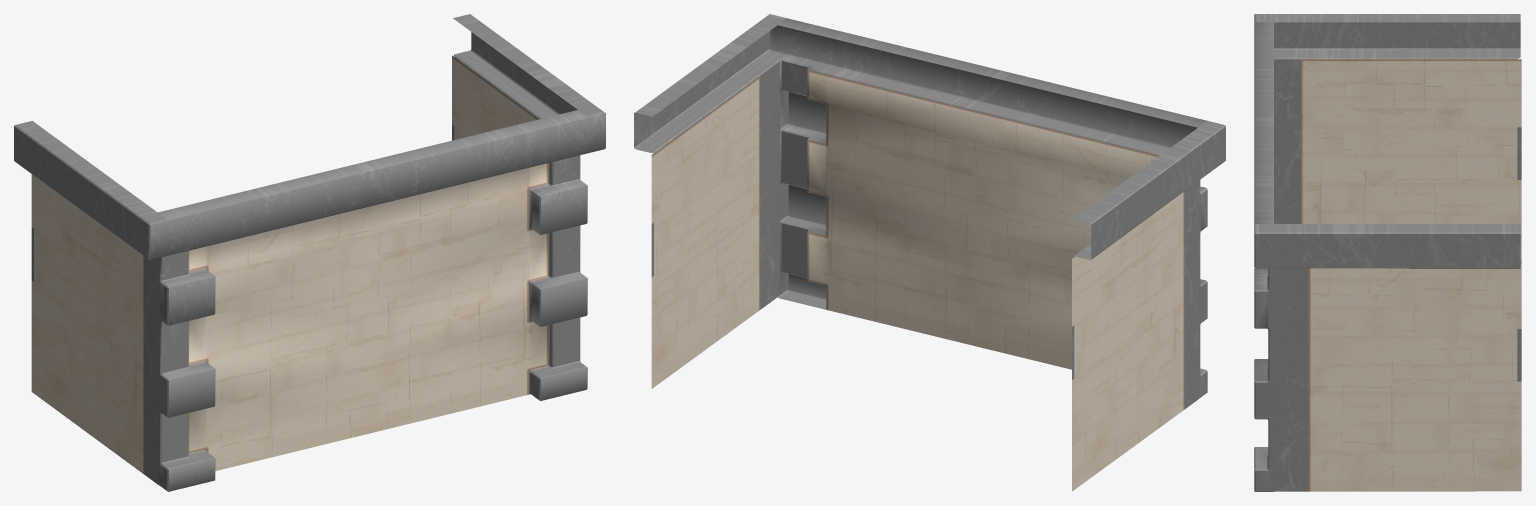
The model's file is wall_1.FBX.
The picture shows the model from 3 angles, left to right: view 1: azimuth 30°, elevation 25°; view 2: azimuth 150°, elevation 25°; view 3: azimuth 270°, elevation 25°; orthographic projection.
Visible parts, largest first — view 1: Plane001; view 2: Plane001; view 3: Plane001.
Part boxes in pixels (x1=…): Plane001: x1=14, y1=14, x2=605, y2=491; Plane001: x1=634, y1=14, x2=1225, y2=491; Plane001: x1=1254, y1=14, x2=1521, y2=491.
Size of the model in its own units: 51.81 by 29.54 by 26.7.
1 material, 1 textured.
